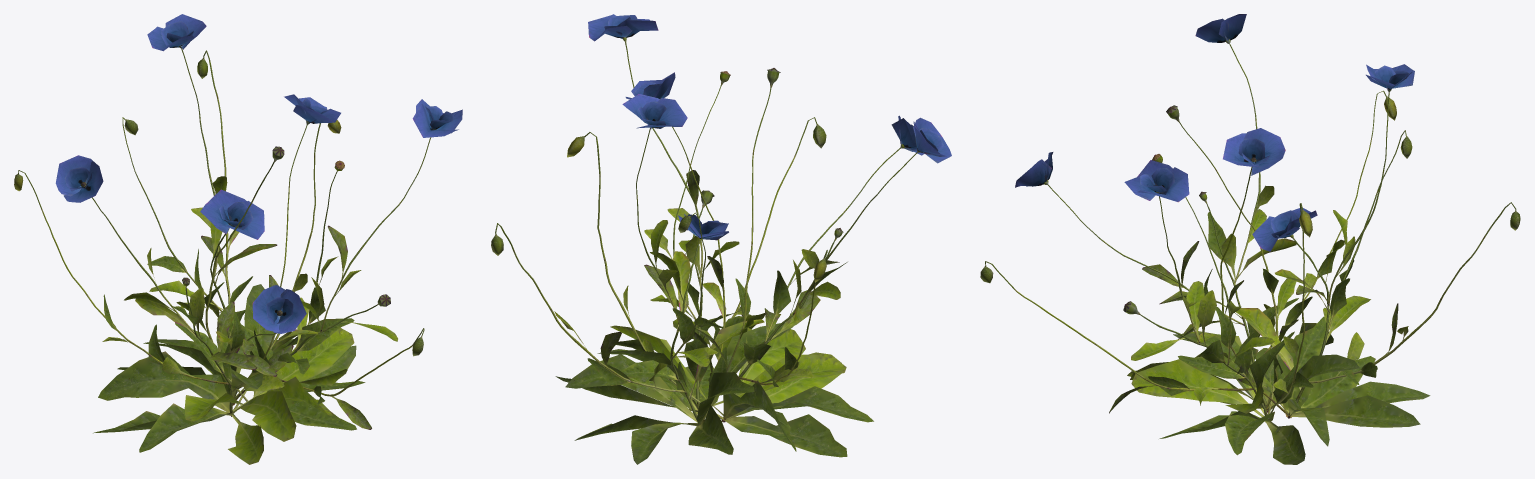
The model's file is Poppy_bush_long_lightblue.glb.
The picture shows the model from 3 angles, left to right: view 1: azimuth 30°, elevation 25°; view 2: azimuth 150°, elevation 25°; view 3: azimuth 270°, elevation 25°; orthographic projection. The views are drawn at different scales.
Visible parts, largest first — view 1: large bush; view 2: large bush; view 3: large bush.
Part boxes in pixels (x1,y1,x2,y2): large bush: [14, 14, 462, 464]; large bush: [491, 14, 951, 464]; large bush: [980, 14, 1520, 464].
Size of the model in its own units: 6 by 5.32 by 7.44.
1 material, 1 textured.
